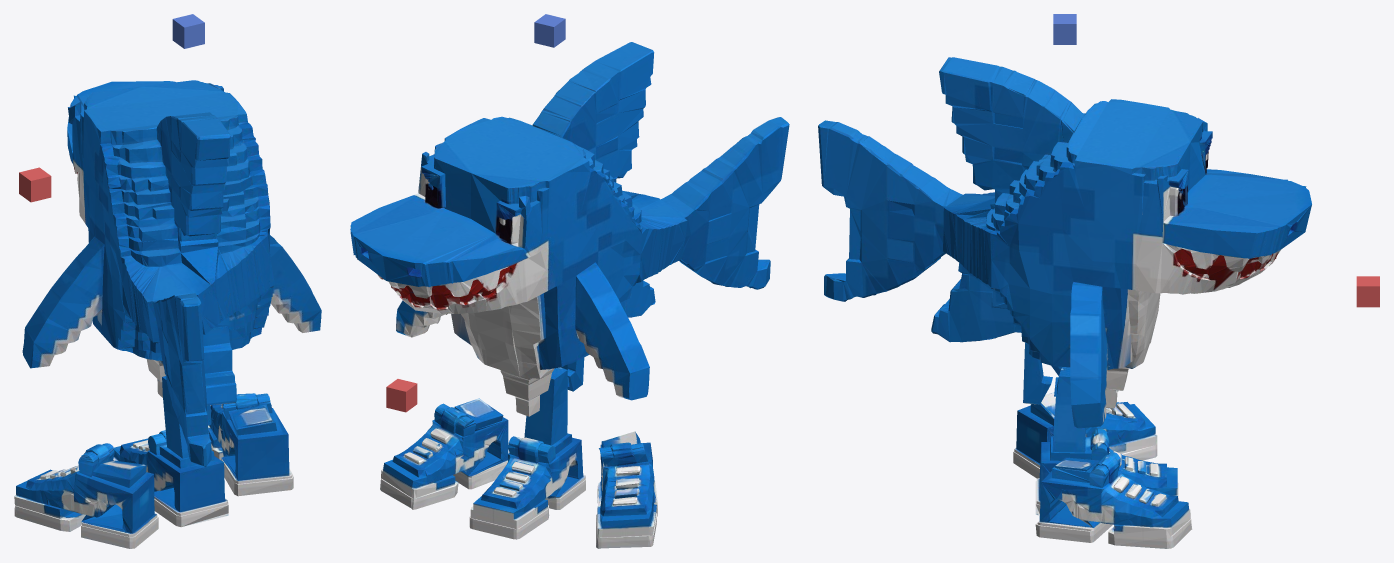
Rendered from TralaleroTralala.glb.
3 views of the same model, side by side, from view 1: azimuth 30°, elevation 25°; view 2: azimuth 150°, elevation 25°; view 3: azimuth 270°, elevation 25° (orthographic). The views are drawn at different scales.
Parts seen in each view (by area): view 1: TralaleroTralala_Body, TralaleroTralala_Leg2, TralaleroTralala_Leg1, TralaleroTralala_Front, TralaleroTralala_Top; view 2: TralaleroTralala_Body, TralaleroTralala_Leg1, TralaleroTralala_Leg2, TralaleroTralala_Front, TralaleroTralala_Top; view 3: TralaleroTralala_Body, TralaleroTralala_Leg1, TralaleroTralala_Leg2, TralaleroTralala_Front, TralaleroTralala_Top.
Part boxes in pixels (left/top/right/bottom): TralaleroTralala_Body: left=22, top=80, right=321, bottom=466; TralaleroTralala_Leg2: left=14, top=434, right=181, bottom=548; TralaleroTralala_Leg1: left=114, top=395, right=293, bottom=526; TralaleroTralala_Front: left=19, top=167, right=51, bottom=202; TralaleroTralala_Top: left=172, top=14, right=204, bottom=48; TralaleroTralala_Body: left=350, top=42, right=789, bottom=468; TralaleroTralala_Leg1: left=380, top=388, right=584, bottom=539; TralaleroTralala_Leg2: left=513, top=431, right=657, bottom=548; TralaleroTralala_Front: left=386, top=379, right=417, bottom=412; TralaleroTralala_Top: left=534, top=14, right=565, bottom=47; TralaleroTralala_Body: left=818, top=57, right=1311, bottom=470; TralaleroTralala_Leg1: left=1035, top=404, right=1192, bottom=548; TralaleroTralala_Leg2: left=1013, top=392, right=1178, bottom=483; TralaleroTralala_Front: left=1356, top=276, right=1379, bottom=307; TralaleroTralala_Top: left=1053, top=14, right=1076, bottom=44.
Bounding box in the file's own units: 3.43 × 5.72 × 6.01.
1 material, 1 textured.
